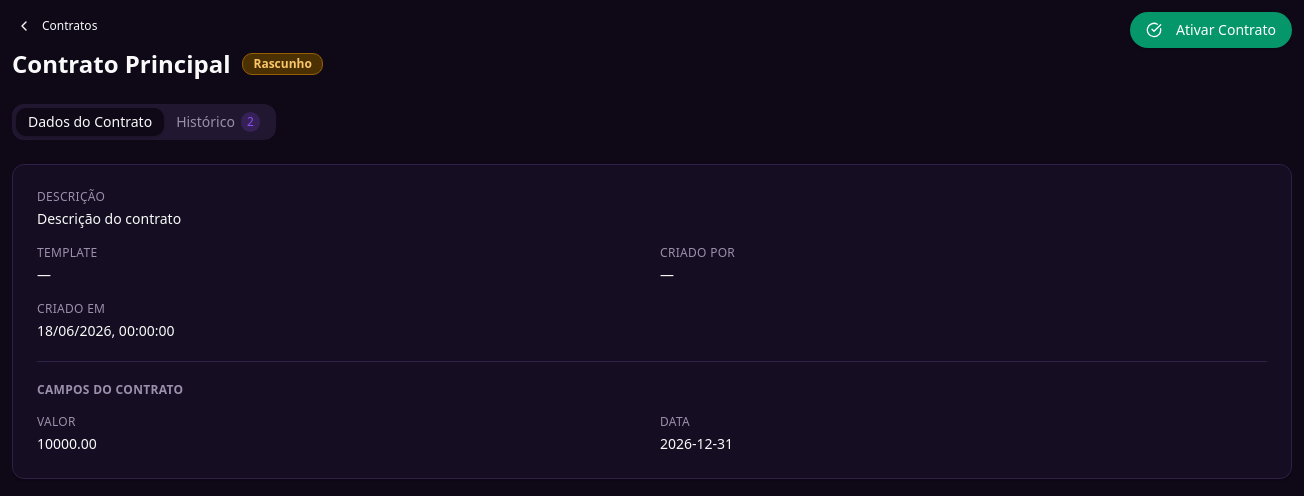
Test: ContractDetail Page › deve alternar entre abas
Click the tab "Histórico 2": (218,122) [164,108,272,136]
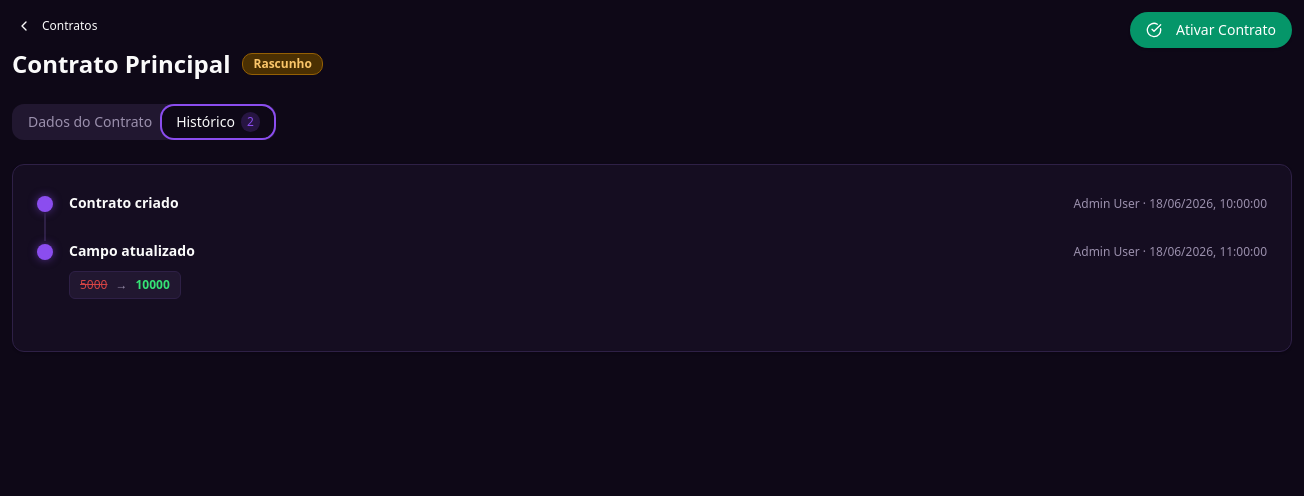
Result: the text "Contrato criado" is shown at [69,193,179,213]
